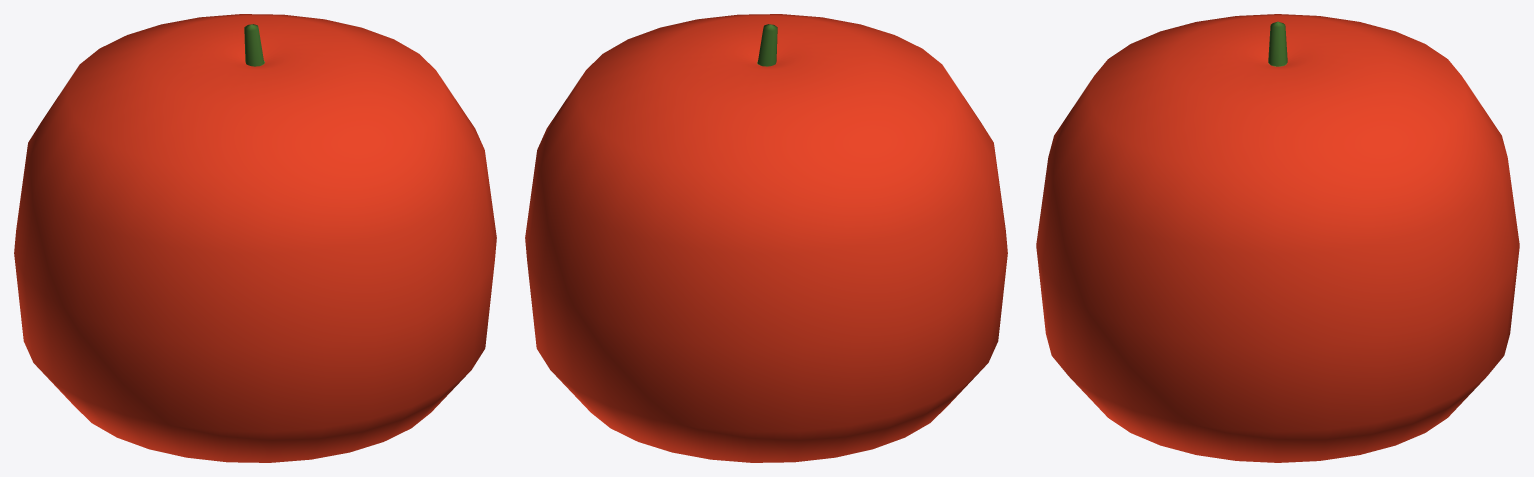
The model's file is tomato.glb.
3 renders of one model, left to right at view 1: azimuth 30°, elevation 25°; view 2: azimuth 150°, elevation 25°; view 3: azimuth 270°, elevation 25°, orthographic.
Parts seen in each view (by area): view 1: package_mesh; view 2: package_mesh; view 3: package_mesh.
Part boxes in pixels (box(x1,y1,x2,y2)): package_mesh: box(14, 14, 496, 462); package_mesh: box(525, 14, 1007, 462); package_mesh: box(1036, 14, 1519, 462).
Size of the model in its own units: 0.2765 by 0.2402 by 0.2765.
